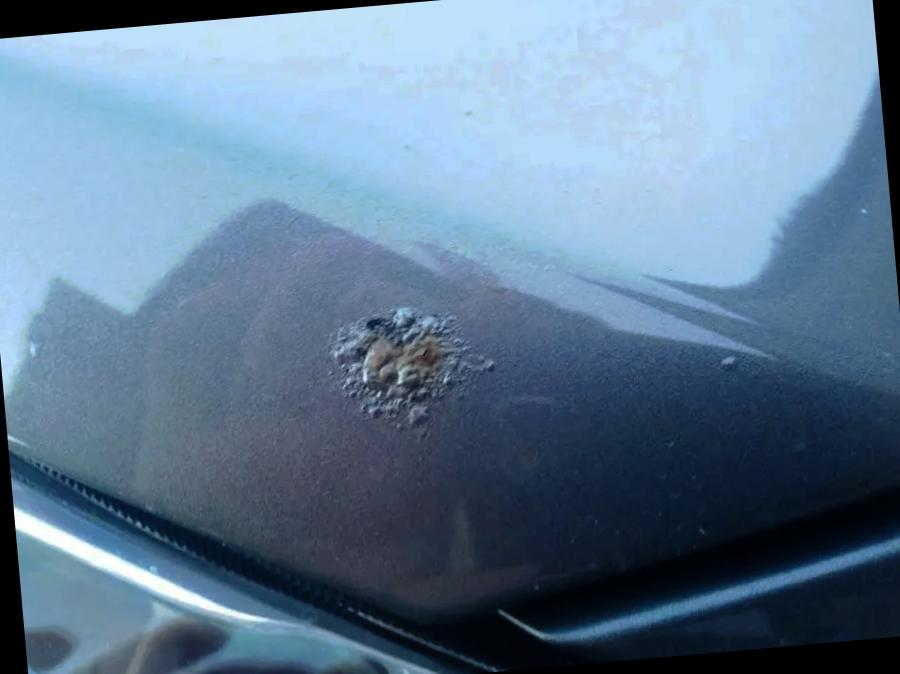Bird Poop: (331, 307, 494, 425)
